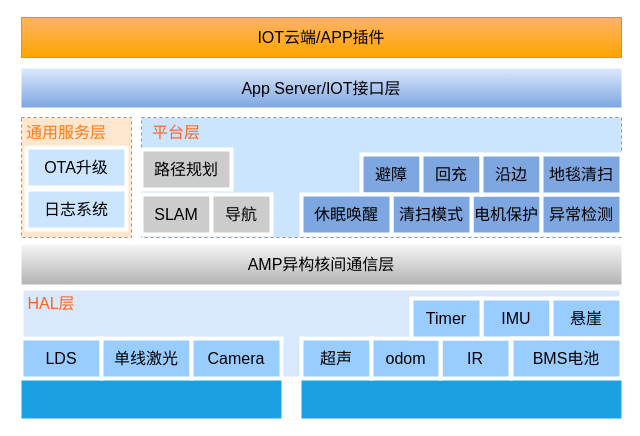
Some shapes in this 640 by 436 pixel diagram are drawn without their labels. Here are the shapes that lost their labels. From the top down, the centre of each, then its label:
At (151,398): "SoC/Linux".
At (461,398): "MCU/RTOS".
